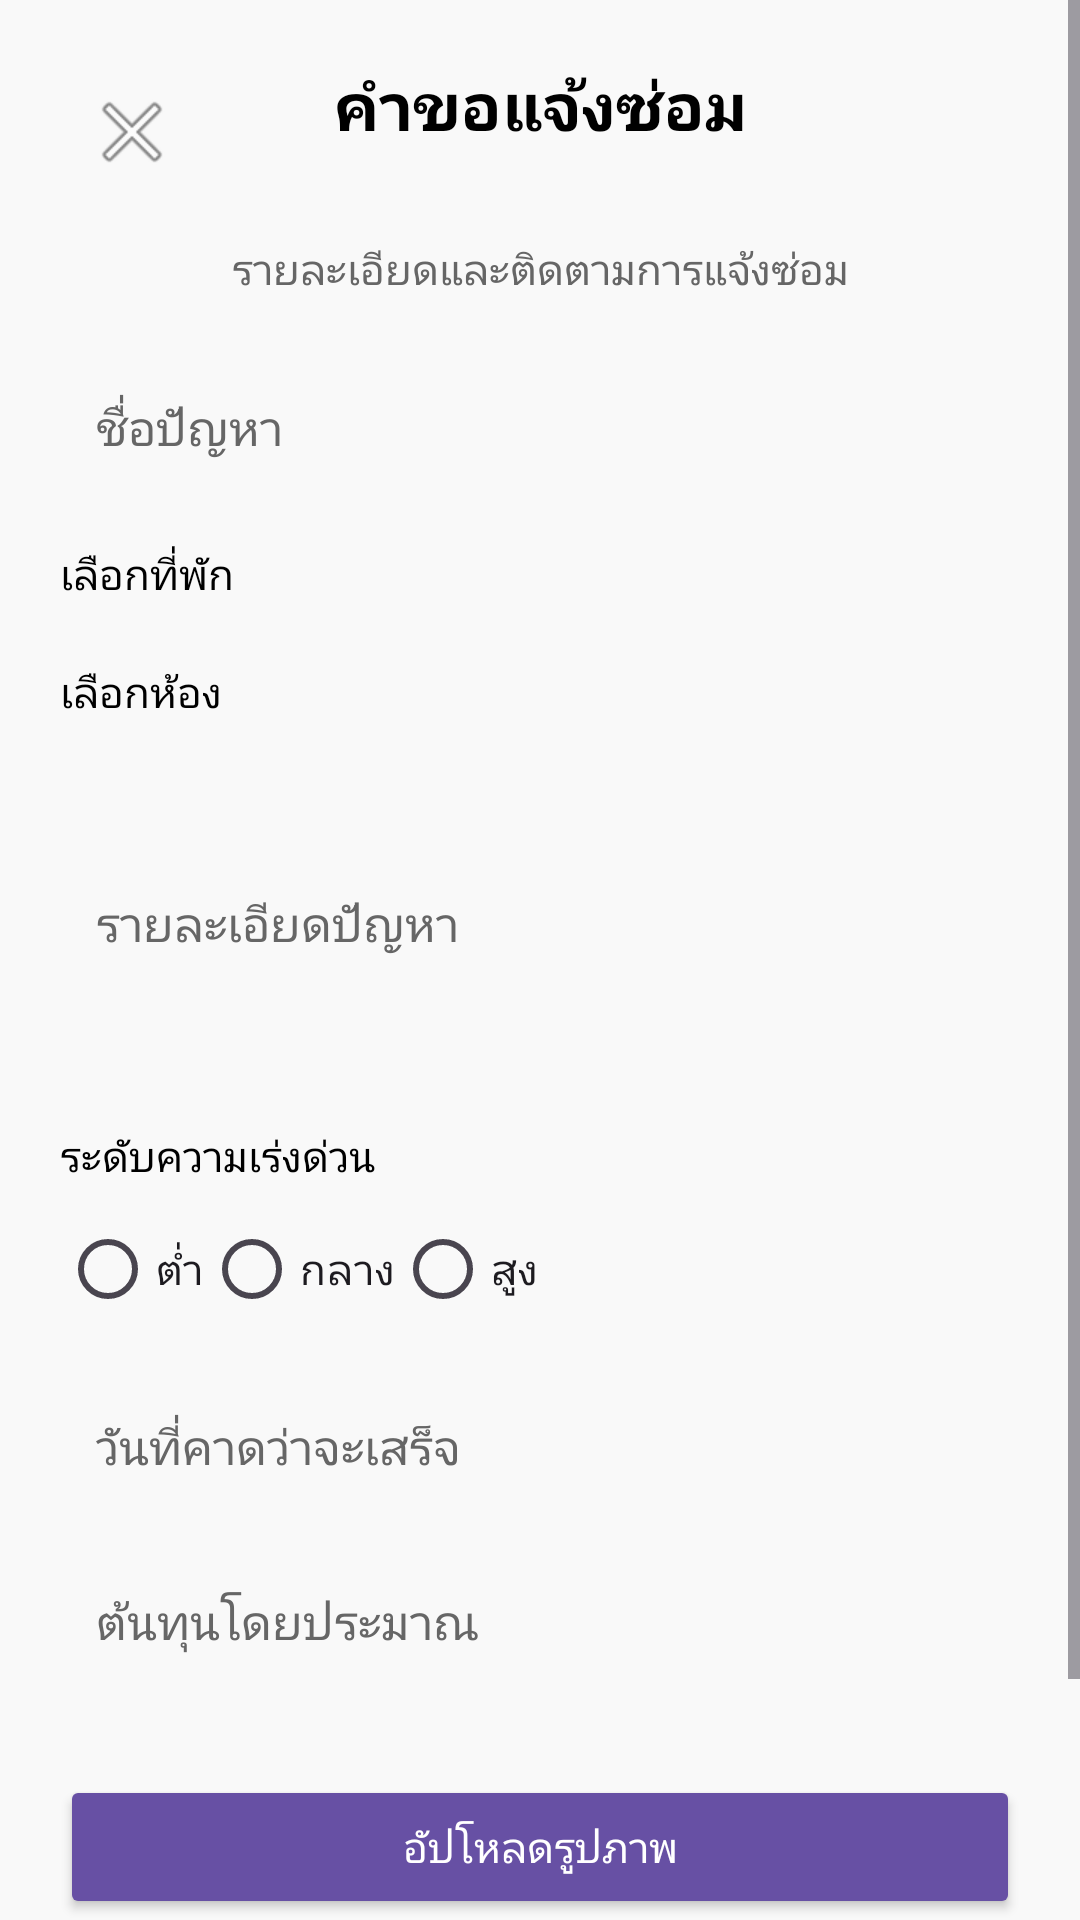

Named icons in this screenshot (1080px×1920px) and their bounding boxes, (x1, y1, x2, y2):
ปิด: (102, 102, 162, 162)
